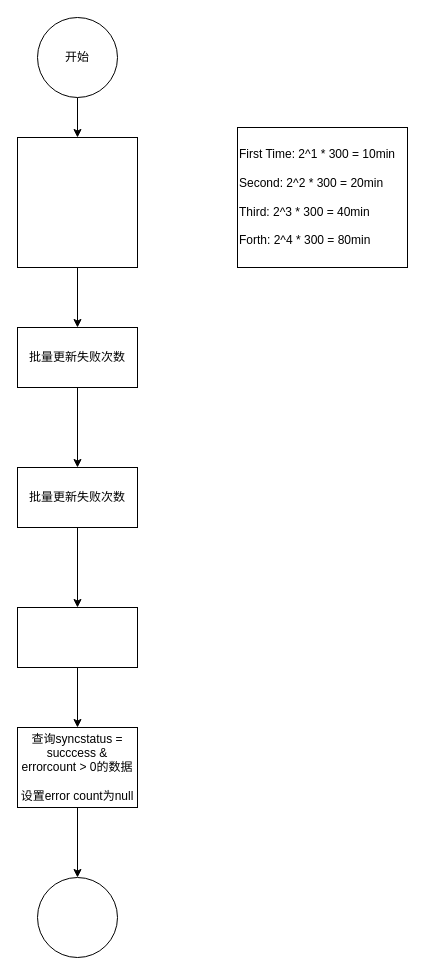
Image size: 425x975. Some labels were removed from this diagram. The centre of each missing label's shape, as x and y in pixels:
"库存计算、同步 + 设置同步成功状态" belongs at [77,637].
"查询需要补偿的数据 sync_status=fail error_count<5 create_time在三小时之内且根据参数指数避让" belongs at [77,202].
"结束" belongs at [77,917].
